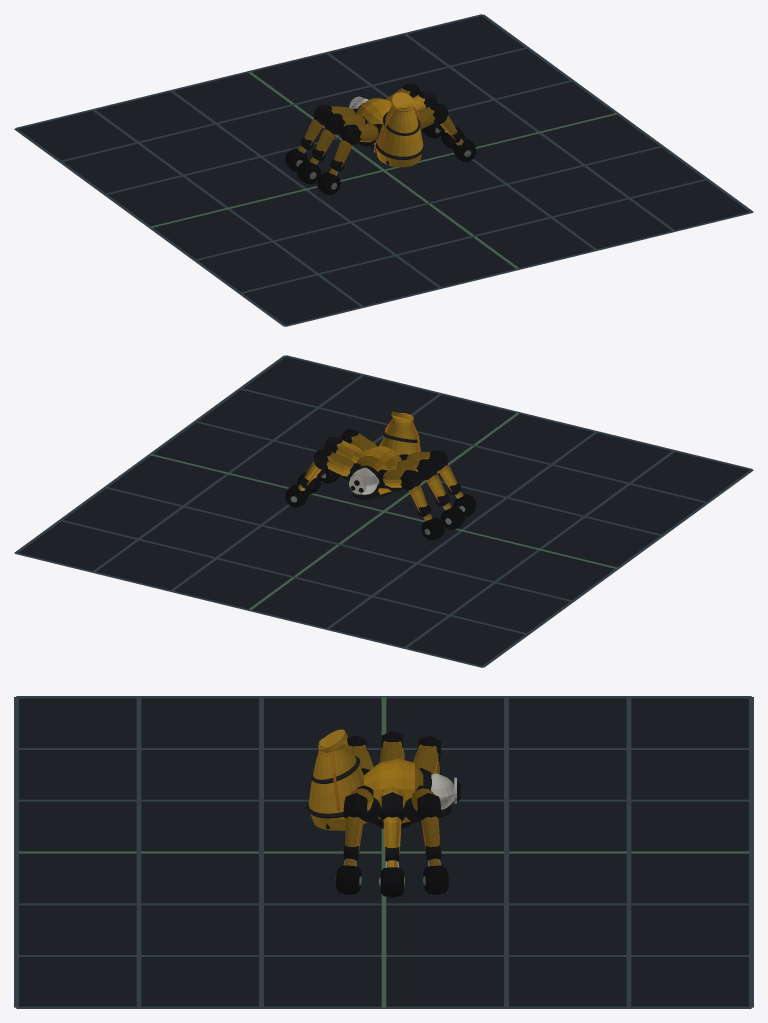
File: model-standard.glb
3 renders of one model, top to bottom at view 1: azimuth 30°, elevation 25°; view 2: azimuth 150°, elevation 25°; view 3: azimuth 270°, elevation 25°, orthographic. The views are drawn at different scales.
Visible parts, largest first — view 1: static; view 2: static; view 3: static.
Boxes of the visible parts, x1,y1,x2,y2 form: static: (14,14,753,326); static: (14,355,753,667); static: (14,696,753,1008).
Bounding box in the file's own units: 0.302 × 0.0546 × 0.302.
